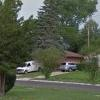Tree: (26, 1, 96, 65)
